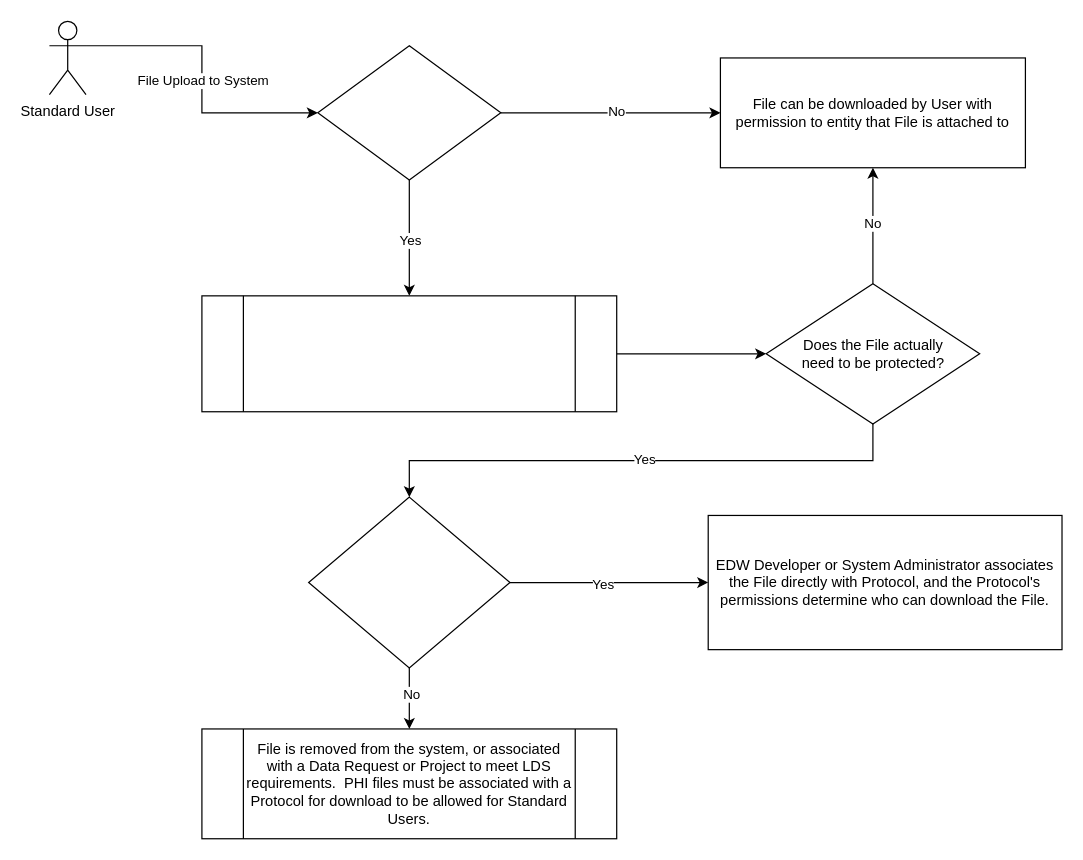
Image size: 1083x860. Some labels were removed from this diagram. The box of each missing label's shape, as (x1, y1, x2, y2) in pixels:
Can the File be associated with a Protocol?: (307, 496, 510, 668)
Does File need to be Protected?: (317, 45, 501, 180)
EDW Developer or System Administrator reviews File contents and descriptive data: (201, 295, 617, 412)
